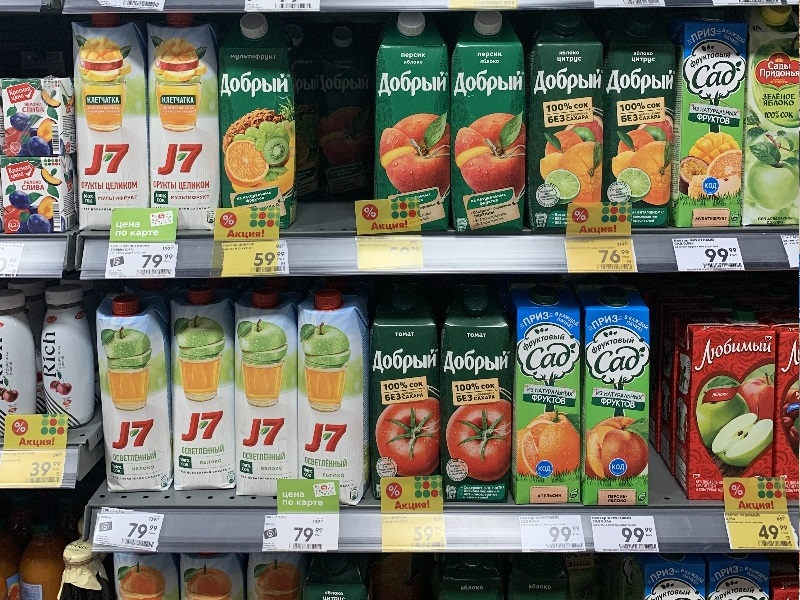juice: (435, 9, 541, 237), (364, 11, 470, 237), (519, 9, 620, 243), (66, 12, 166, 234), (138, 11, 232, 243), (676, 306, 782, 508), (212, 11, 307, 235), (577, 284, 662, 518), (291, 290, 382, 507), (88, 292, 185, 495), (223, 285, 312, 505), (162, 284, 249, 503), (438, 291, 524, 508), (512, 284, 591, 511)
